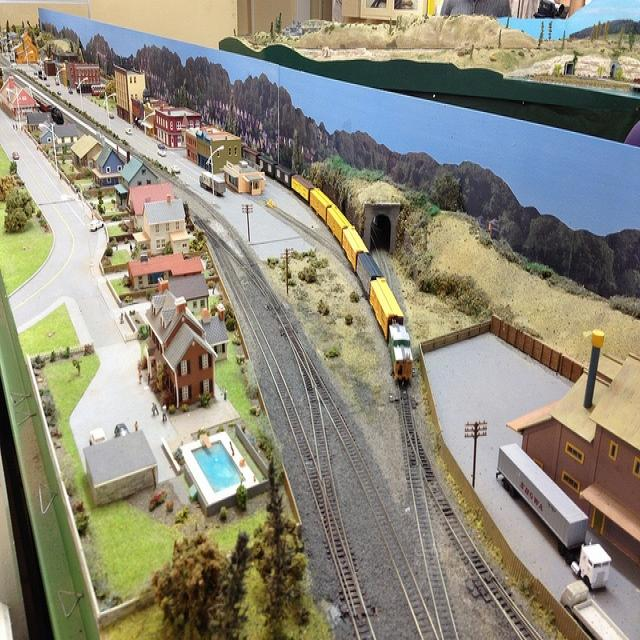truck: (494, 439, 608, 588)
